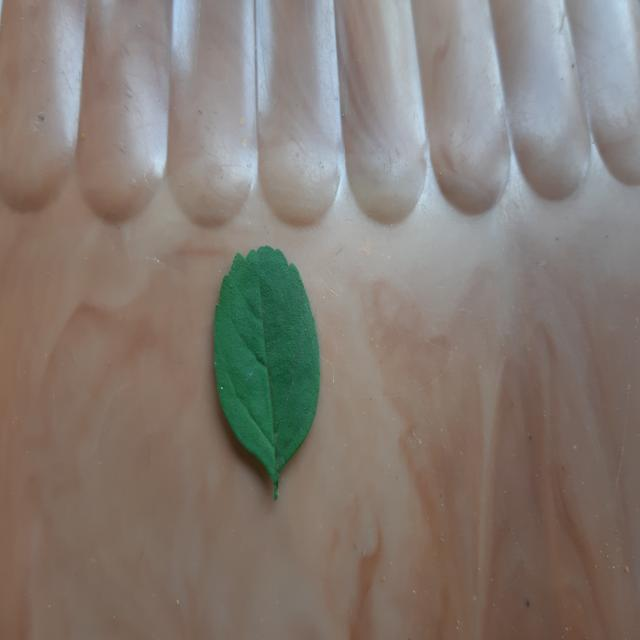tecoma: (214, 247, 320, 500)
